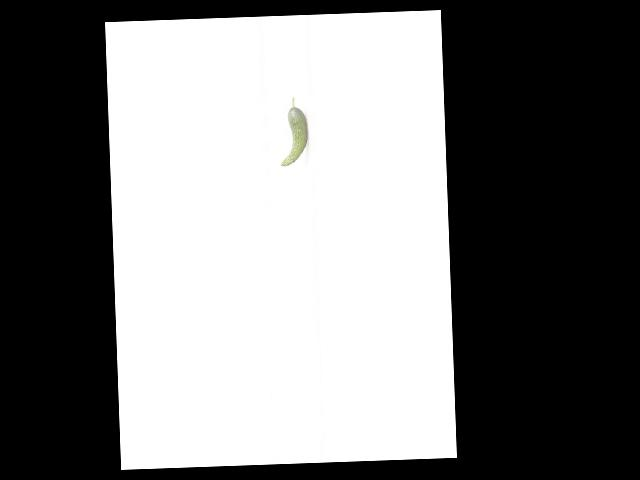cucumber: (279, 96, 308, 166)
